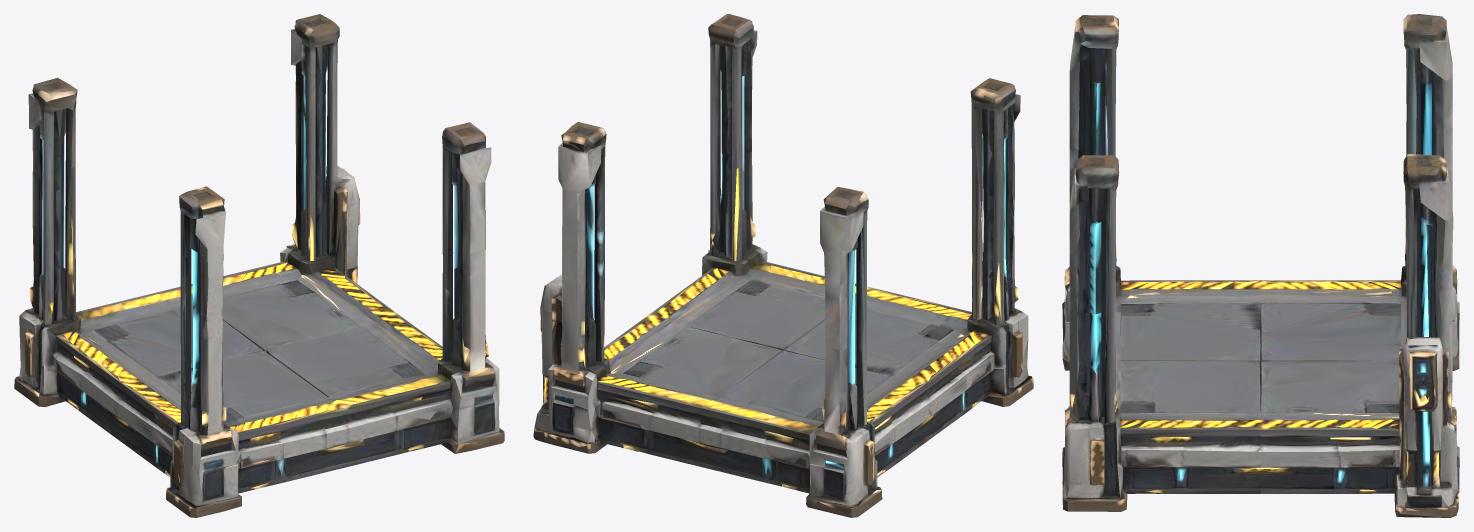
File: lift_platform.glb
The picture shows the model from 3 angles, left to right: view 1: azimuth 30°, elevation 25°; view 2: azimuth 150°, elevation 25°; view 3: azimuth 270°, elevation 25°; orthographic projection. The views are drawn at different scales.
Visible parts, largest first — view 1: lift_platform; view 2: lift_platform; view 3: lift_platform.
Part boxes in pixels (bbox=[...]): lift_platform: bbox=[14, 14, 504, 517]; lift_platform: bbox=[533, 14, 1033, 517]; lift_platform: bbox=[1062, 14, 1459, 517].
Bounding box in the file's own units: 11.98 × 10.73 × 11.48.
Materials: 1 (1 with a texture image).
